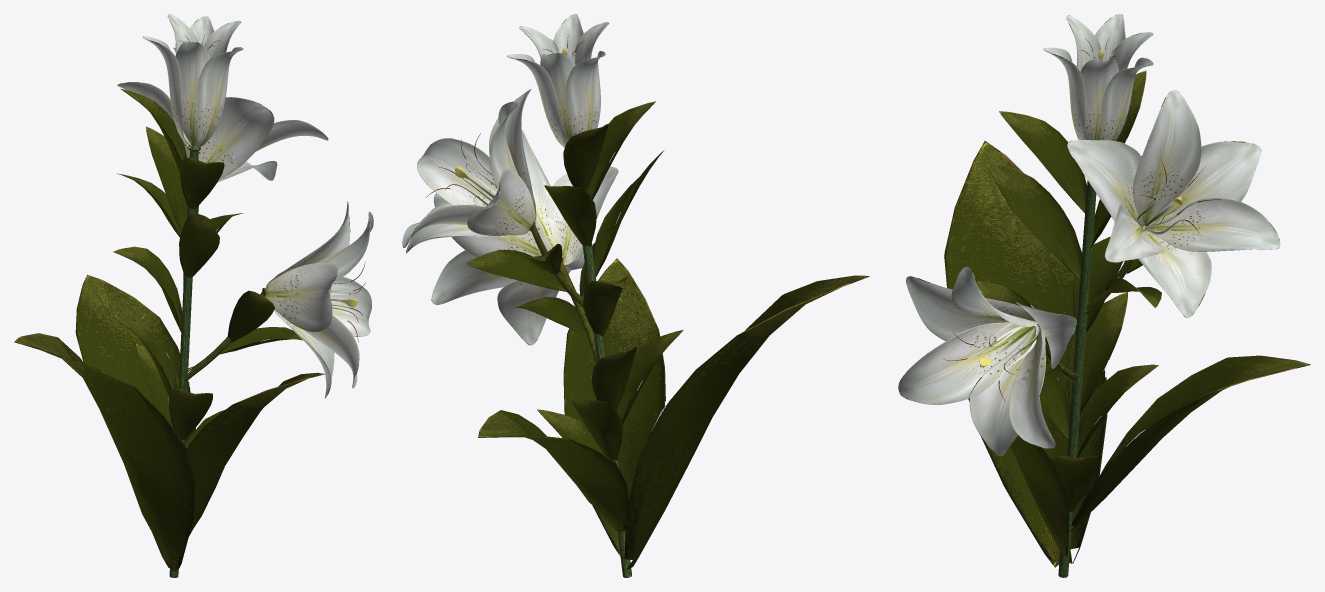
File: lily.glb
The picture shows the model from 3 angles, left to right: view 1: azimuth 30°, elevation 25°; view 2: azimuth 150°, elevation 25°; view 3: azimuth 270°, elevation 25°; orthographic projection. The views are drawn at different scales.
Visible parts, largest first — view 1: Lilium_XL_004; view 2: Lilium_XL_004; view 3: Lilium_XL_004.
Part boxes in pixels (<box>): Lilium_XL_004: <box>14,14,373,577</box>; Lilium_XL_004: <box>402,14,869,577</box>; Lilium_XL_004: <box>898,14,1310,577</box>.
Bounding box in the file's own units: 3.02 × 3.94 × 2.59.
Materials: 1 (1 with a texture image).
